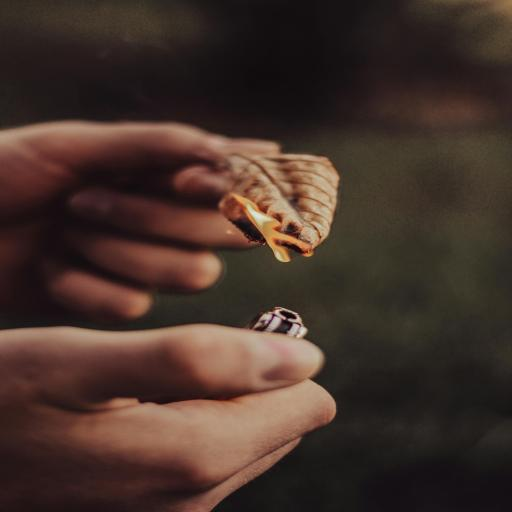lighter: (207, 255, 357, 360)
